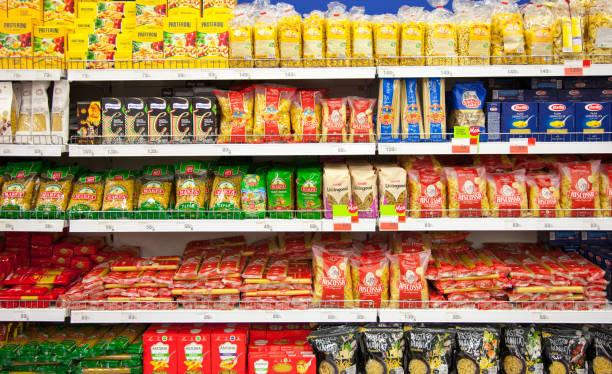article: (387, 251, 430, 306), (214, 88, 252, 142), (446, 167, 486, 215), (451, 82, 483, 131), (138, 167, 173, 209), (401, 79, 423, 140), (327, 4, 349, 65), (34, 26, 65, 67), (51, 80, 69, 142), (324, 166, 350, 207), (146, 98, 168, 142), (478, 250, 508, 271)
